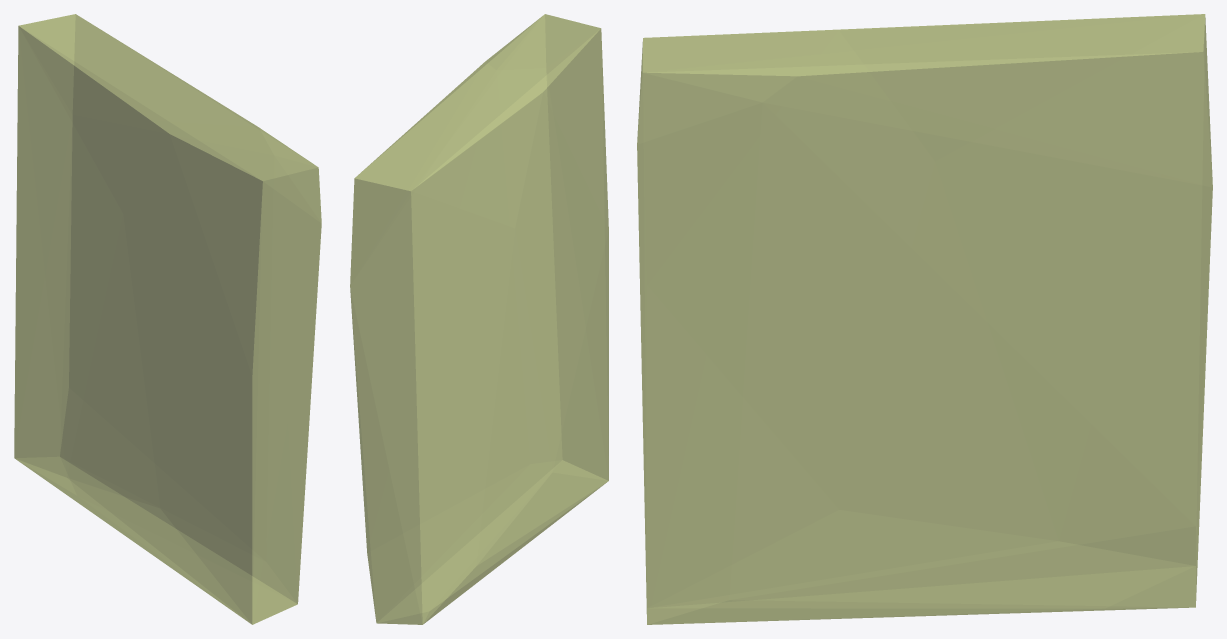
The picture shows the model from 3 angles, left to right: view 1: azimuth 30°, elevation 25°; view 2: azimuth 150°, elevation 25°; view 3: azimuth 270°, elevation 25°; orthographic projection. The views are drawn at different scales.
Visible parts, largest first — view 1: Shape_IndexedFaceSet.002_Shape_IndexedFaceSet.825; view 2: Shape_IndexedFaceSet.002_Shape_IndexedFaceSet.825; view 3: Shape_IndexedFaceSet.002_Shape_IndexedFaceSet.825.
Boxes of the visible parts, box(x1,y1,x2,y2) form: Shape_IndexedFaceSet.002_Shape_IndexedFaceSet.825: box(14, 14, 321, 624); Shape_IndexedFaceSet.002_Shape_IndexedFaceSet.825: box(350, 14, 608, 624); Shape_IndexedFaceSet.002_Shape_IndexedFaceSet.825: box(637, 14, 1212, 624).
Bounding box in the file's own units: 0.0767 × 0.3498 × 0.3137.
